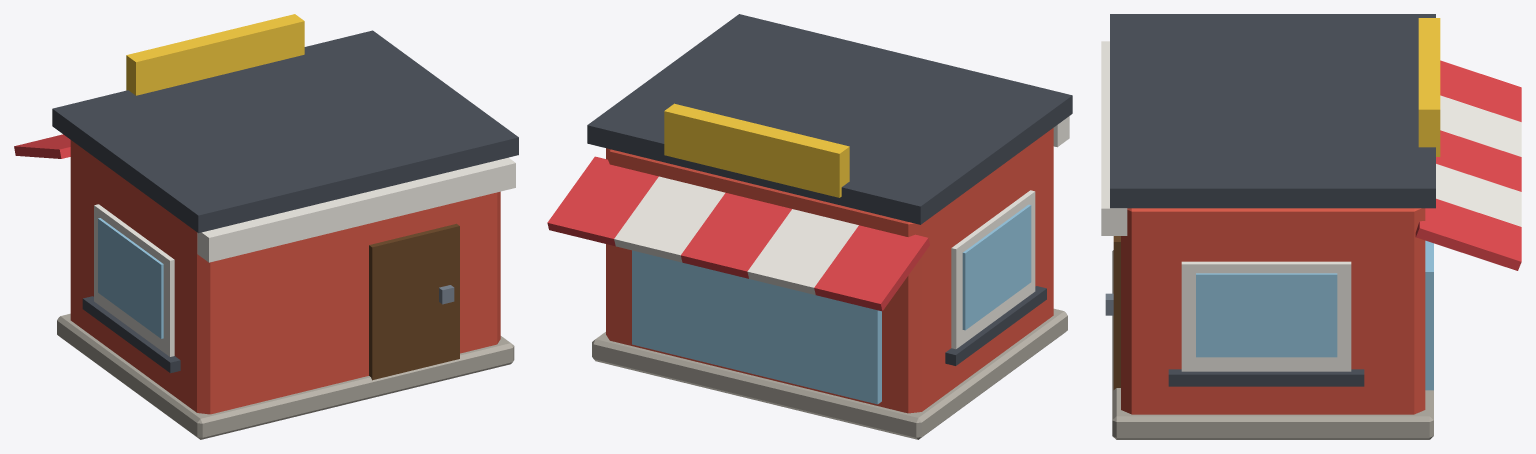
The model's file is shop.glb.
3 views of the same model, side by side, from view 1: azimuth 30°, elevation 25°; view 2: azimuth 150°, elevation 25°; view 3: azimuth 270°, elevation 25° (orthographic). The views are drawn at different scales.
Visible parts, largest first — view 1: shop; view 2: shop; view 3: shop.
Boxes of the visible parts, left/top/right/bottom form: shop: left=14, top=14, right=518, bottom=439; shop: left=547, top=14, right=1072, bottom=439; shop: left=1101, top=14, right=1521, bottom=439.
Size of the model in its own units: 1.92 by 1.48 by 1.93.
1 material, 1 textured.
